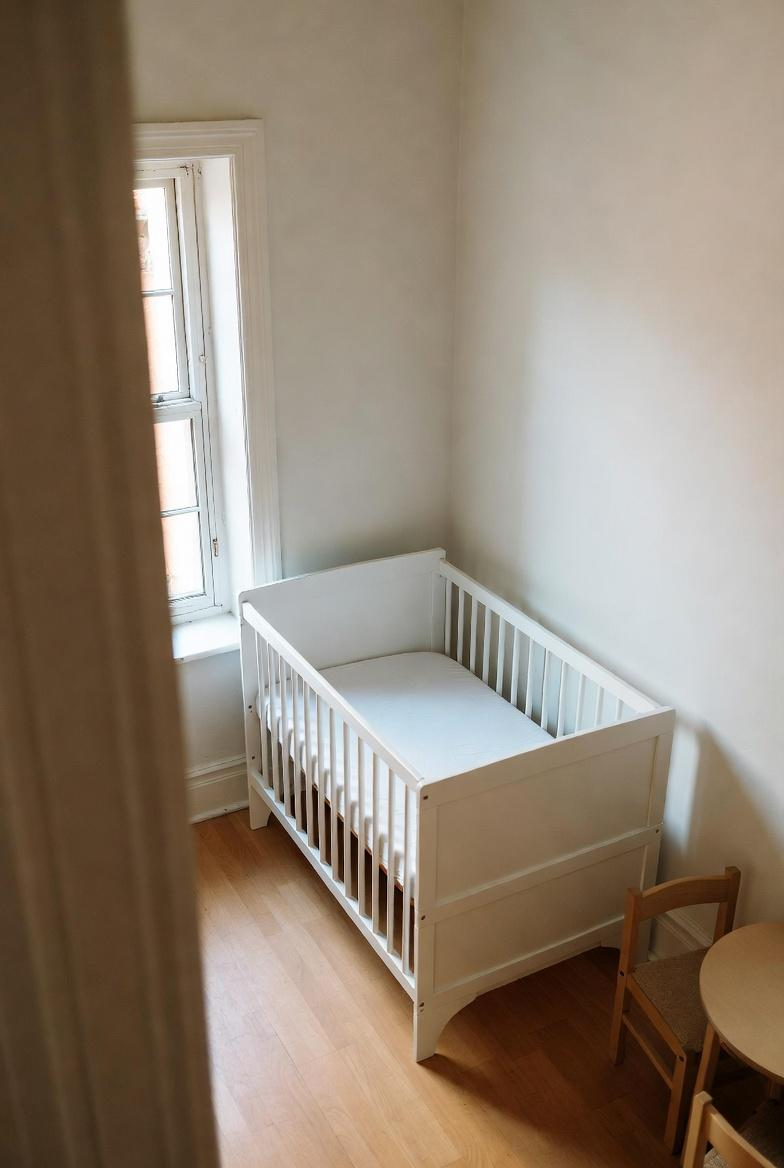crib: (241, 549, 674, 1060)
